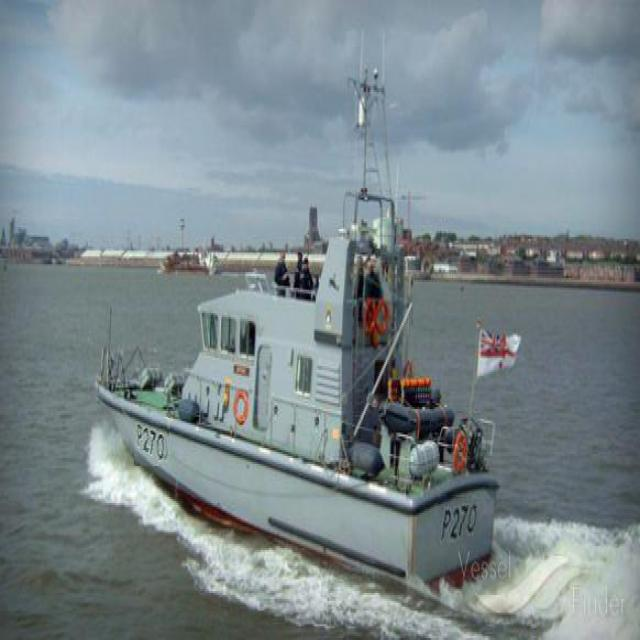OCR: (433, 494, 483, 547), (134, 415, 171, 466)
